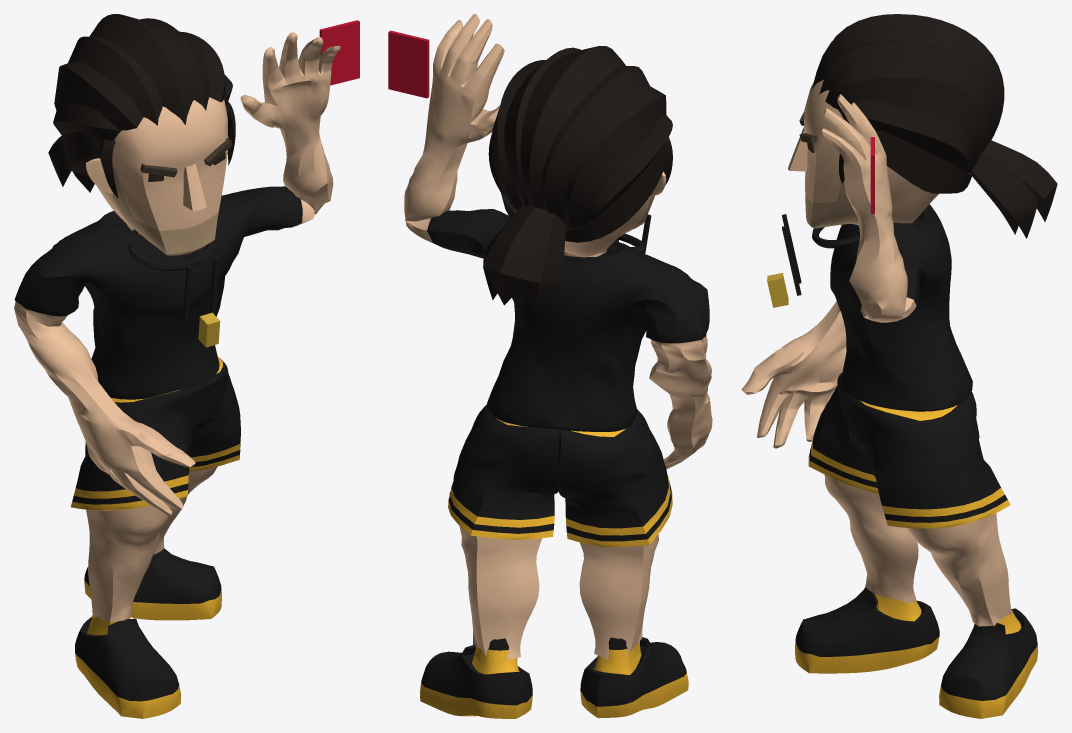
Rendered from av-arbitro-vilao.glb.
The picture shows the model from 3 angles, left to right: view 1: azimuth 30°, elevation 25°; view 2: azimuth 150°, elevation 25°; view 3: azimuth 270°, elevation 25°; orthographic projection. The views are drawn at different scales.
Parts seen in each view (by area): view 1: Ad_apito_1_0; view 2: Ad_apito_1_0; view 3: Ad_apito_1_0.
Boxes of the visible parts, <box> form: Ad_apito_1_0: <box>14,14,359,718</box>; Ad_apito_1_0: <box>388,14,712,718</box>; Ad_apito_1_0: <box>741,14,1057,718</box>.
Size of the model in its own units: 0.7264 by 1.37 by 0.5956.
